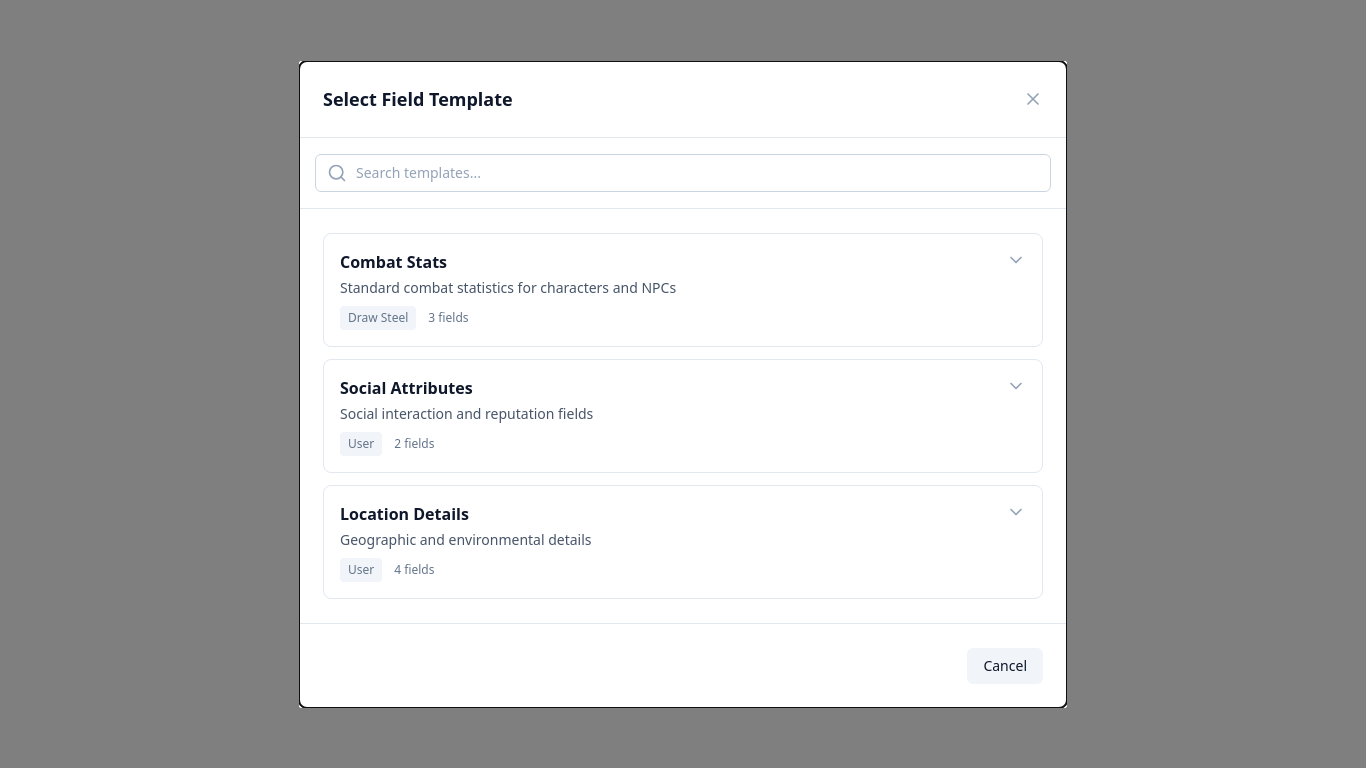
FieldTemplatePicker - Field Preview (Issue #210) › should allow collapsing expanded preview
Click the 1st button named "Show fields preview": click(1016, 260) [1006,250,1026,270]
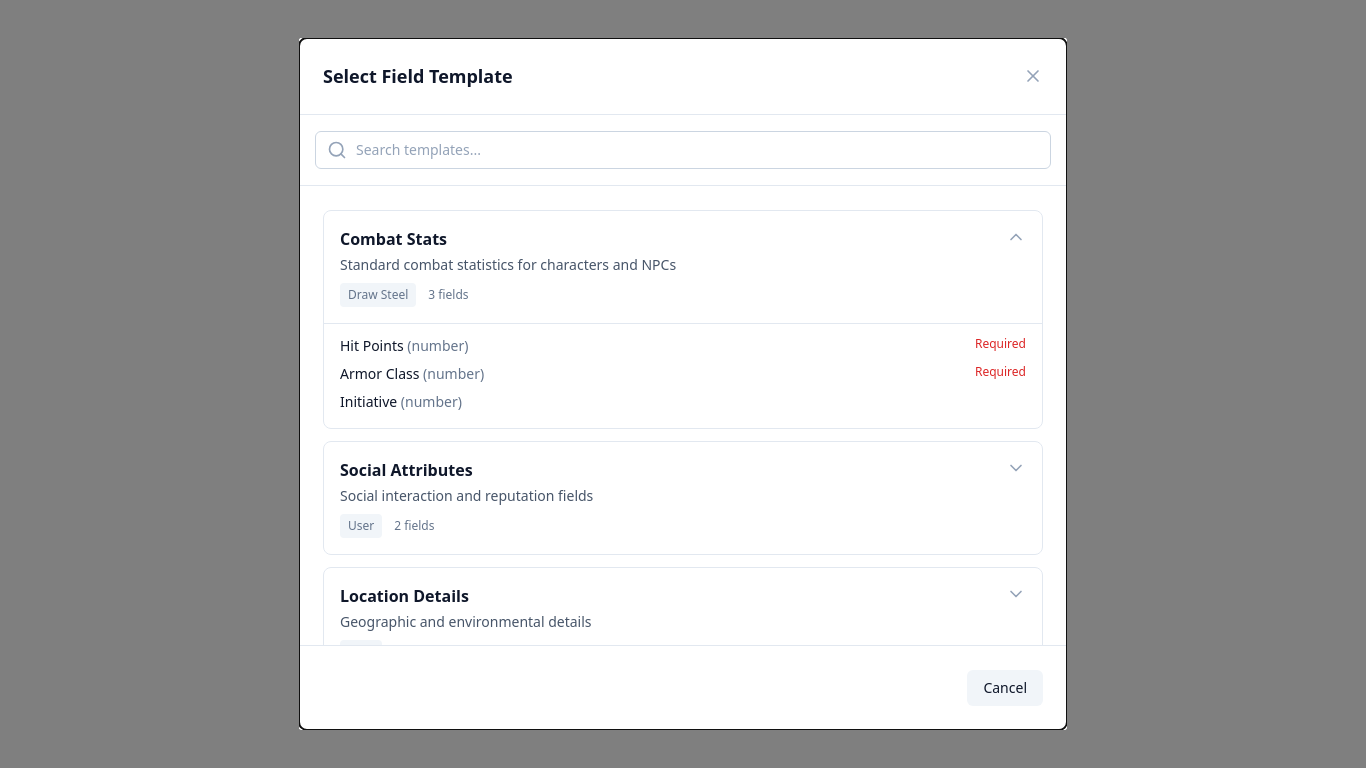
Now the text "Hit Points" is shown, box [340,336,404,355]
Click the button named "Hide fields preview": click(1016, 237) [1006,227,1026,247]
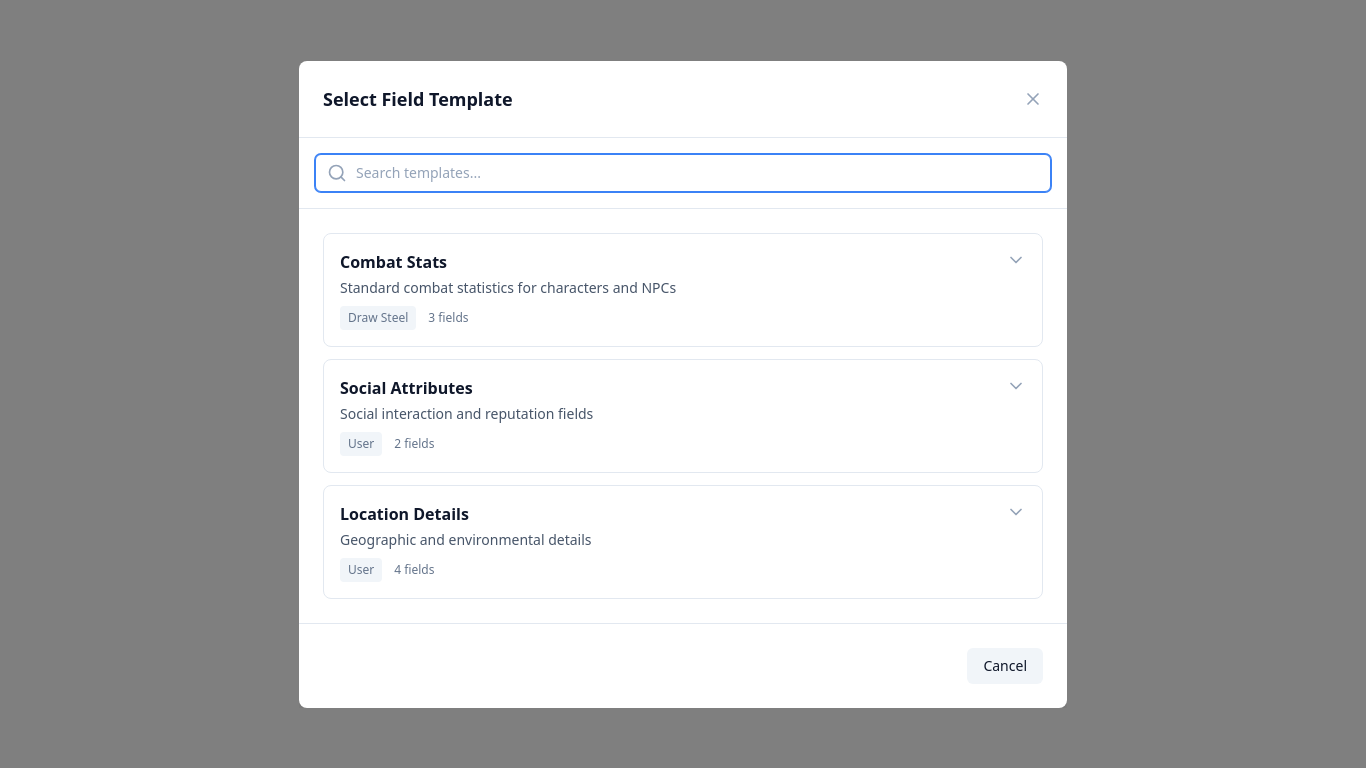
Now the text "Initiative" is gone
